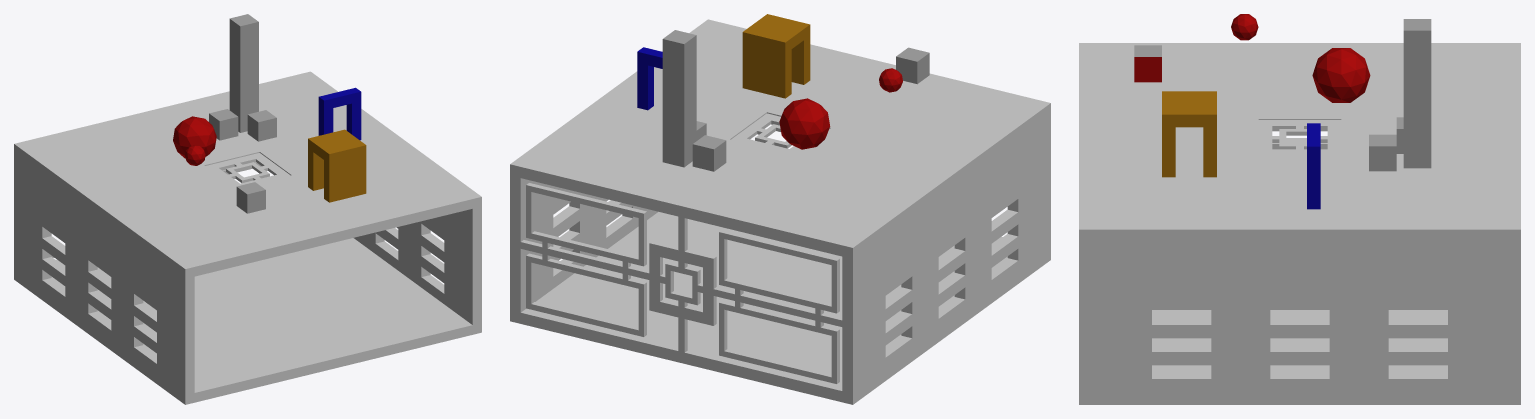
3 renders of one model, left to right at view 1: azimuth 30°, elevation 25°; view 2: azimuth 150°, elevation 25°; view 3: azimuth 270°, elevation 25°, orthographic. The views are drawn at different scales.
Visible parts, largest first — view 1: Cube.005, Cube.001, Cube.004, Cube.003, Cube.007, Cube.006, Icosphere.001, Cube.002, Multimat_Cube.008, Cube; view 2: Cube.005, Cube.001, Cube.008_Cube.009, Cube.004, Cube.003, Icosphere.001, Cube.006, Cube.007, Cube, Multimat_Cube.008; view 3: Cube.001, Cube.005, Cube.003, Cube.004, Icosphere.001, Cube.006, Cube.007, Multimat_Cube.008, Cube.002, Icosphere.
Boxes of the visible parts, box(x1,y1,x2,y2) form: Cube.005: box(14, 154, 481, 404); Cube.001: box(14, 71, 481, 278); Cube.004: box(308, 129, 366, 202); Cube.003: box(229, 14, 258, 132); Cube.007: box(318, 87, 361, 140); Cube.006: box(205, 153, 290, 188); Icosphere.001: box(173, 116, 216, 158); Cube.002: box(247, 110, 276, 141); Multimat_Cube.008: box(236, 182, 265, 213); Cube: box(209, 109, 238, 140); Cube.005: box(510, 114, 1050, 404); Cube.001: box(510, 19, 1050, 258); Cube.008_Cube.009: box(516, 183, 846, 383); Cube.004: box(742, 14, 810, 98); Cube.003: box(662, 30, 696, 167); Icosphere.001: box(779, 98, 830, 149); Cube.006: box(731, 113, 829, 154); Cube.007: box(637, 47, 662, 110); Cube: box(692, 135, 726, 171); Multimat_Cube.008: box(896, 47, 929, 84); Cube.001: box(1079, 43, 1520, 242); Cube.005: box(1079, 138, 1520, 404); Cube.003: box(1403, 19, 1431, 168); Cube.004: box(1162, 91, 1216, 177); Icosphere.001: box(1312, 48, 1370, 102); Cube.006: box(1258, 120, 1341, 153); Cube.007: box(1307, 123, 1320, 209); Multimat_Cube.008: box(1134, 45, 1161, 82); Cube.002: box(1369, 134, 1396, 171); Icosphere: box(1231, 14, 1258, 40).
Bounding box in the file's own units: 32 × 25 × 32.
